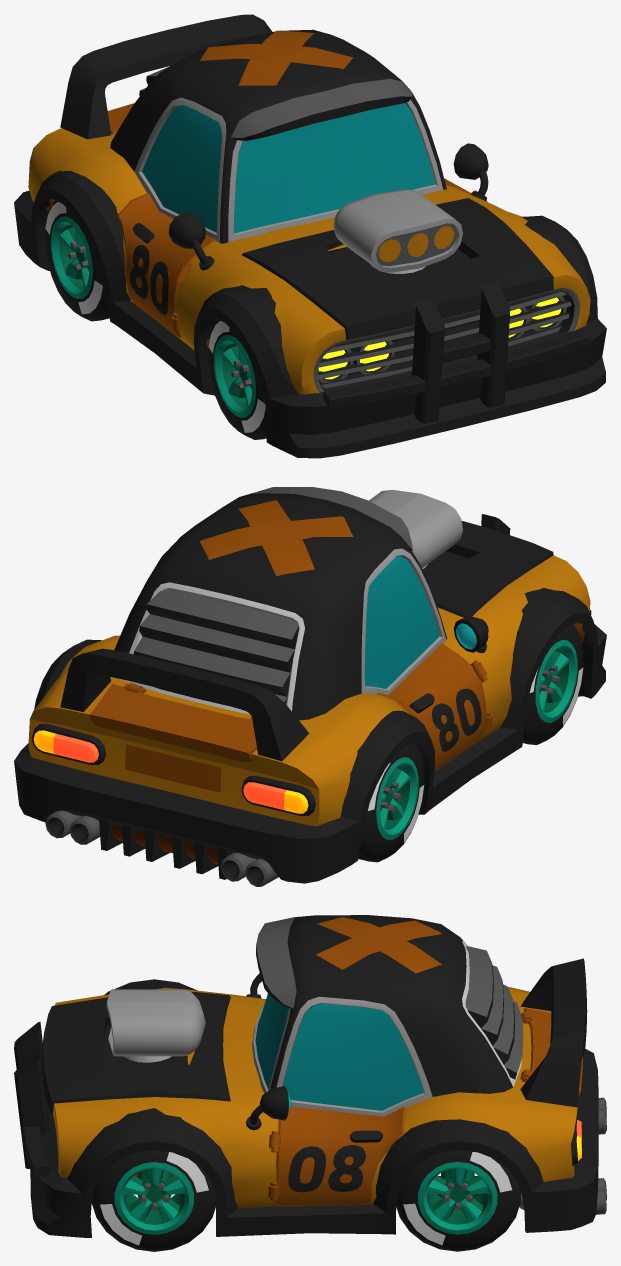
File: SVehicle04.fbx
The picture shows the model from 3 angles, top to bottom: view 1: azimuth 30°, elevation 25°; view 2: azimuth 150°, elevation 25°; view 3: azimuth 270°, elevation 25°; orthographic projection. The views are drawn at different scales.
Parts seen in each view (by area): view 1: SVehicle04, SV4_Wheel_BR, SV4_Wheel_FR; view 2: SVehicle04, SV4_Wheel_BR, SV4_Wheel_FR; view 3: SVehicle04, SV4_Wheel_FL, SV4_Wheel_BL.
Boxes of the visible parts, x1,y1,x2,y2 form: SVehicle04: (14,14,606,458); SV4_Wheel_BR: (45,200,109,321); SV4_Wheel_FR: (208,319,267,439); SVehicle04: (14,487,606,886); SV4_Wheel_BR: (358,742,424,862); SV4_Wheel_FR: (522,624,583,744); SVehicle04: (14,915,606,1237); SV4_Wheel_FL: (91,1150,216,1251); SV4_Wheel_BL: (396,1150,520,1251).
Size of the model in its own units: 262 by 190 by 418.
Materials: 1 (1 with a texture image).
